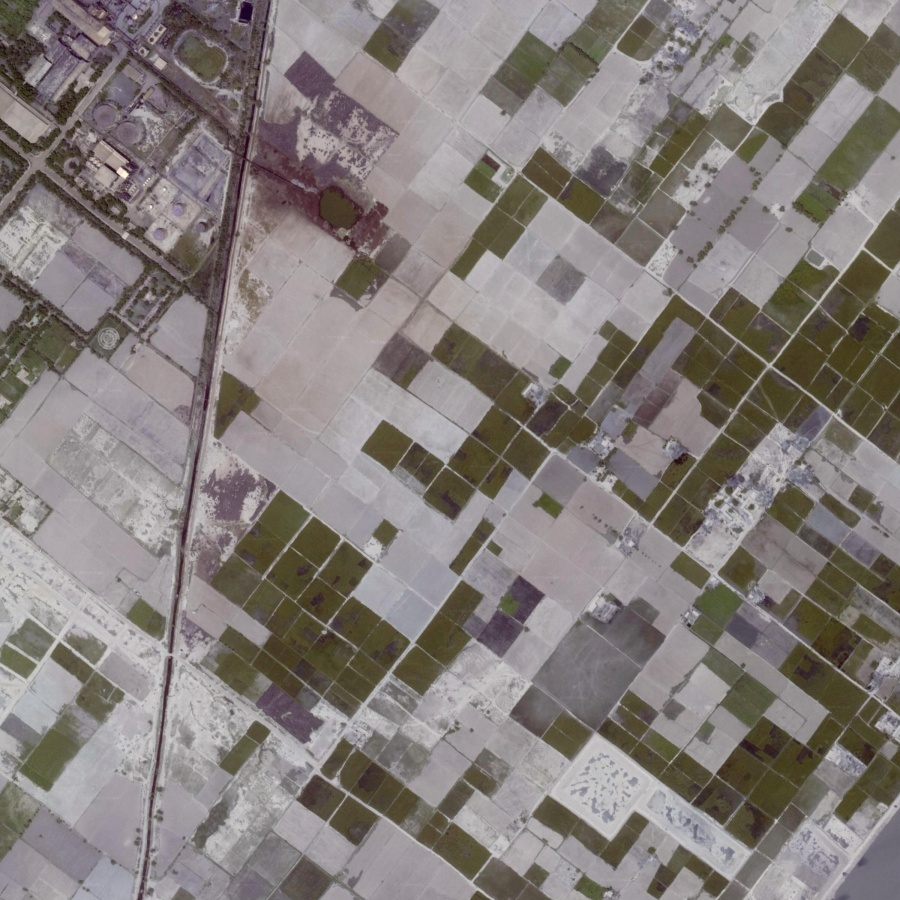PowerPlant: (39, 31, 229, 249)
